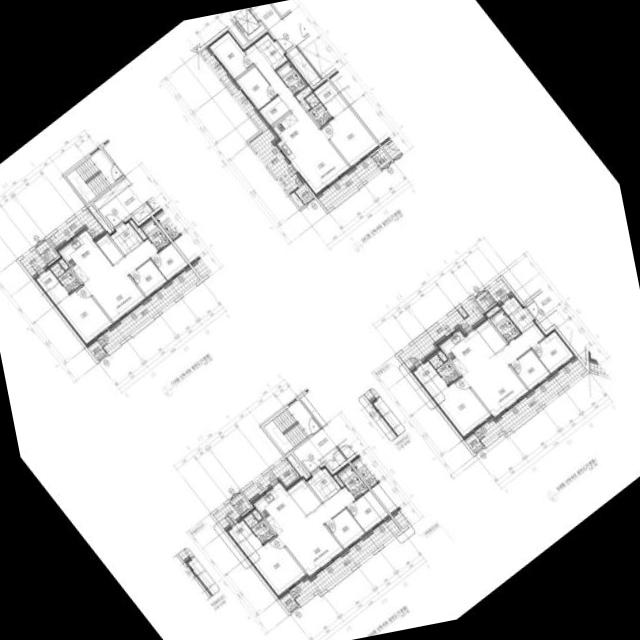background: (0, 0, 640, 640)
space_balconi: (201, 48, 303, 193), (474, 359, 587, 445), (289, 519, 401, 604), (97, 268, 200, 352), (399, 298, 485, 369), (318, 156, 380, 210), (243, 458, 300, 500), (47, 208, 105, 248), (20, 249, 47, 276), (214, 502, 241, 528), (488, 278, 512, 302)
space_bedroom: (247, 536, 307, 598), (55, 285, 114, 346), (432, 377, 491, 437), (322, 107, 380, 168), (252, 4, 310, 52), (207, 30, 253, 80), (235, 66, 278, 110), (347, 490, 390, 534), (532, 330, 575, 373), (326, 508, 367, 550), (511, 349, 551, 389), (151, 243, 190, 282), (130, 259, 169, 298)
space_dressroom: (226, 518, 263, 558), (313, 79, 349, 118), (412, 361, 448, 398), (34, 267, 69, 305)
space_elevator_hall: (293, 427, 338, 473), (99, 184, 146, 228), (526, 291, 557, 323)
space_front: (306, 466, 342, 503), (110, 220, 144, 256), (261, 39, 289, 70), (509, 306, 535, 333)
space_kitchen: (57, 229, 113, 287), (252, 481, 305, 536), (439, 329, 496, 379), (271, 112, 316, 163)
space_living_room: (244, 43, 352, 197), (465, 323, 546, 417), (278, 486, 355, 578), (86, 238, 158, 324)
space_other: (297, 35, 336, 78), (286, 477, 321, 515), (288, 46, 321, 85), (93, 177, 132, 210), (475, 318, 507, 353), (94, 232, 125, 265), (258, 96, 290, 126), (88, 205, 113, 234), (320, 447, 346, 470), (287, 454, 309, 479), (36, 240, 58, 263), (231, 493, 252, 514), (253, 31, 275, 51), (296, 85, 313, 110), (501, 295, 522, 315), (132, 202, 153, 222), (372, 149, 391, 168), (476, 291, 495, 310), (130, 219, 147, 240), (291, 192, 304, 207), (486, 305, 501, 317), (252, 509, 263, 521), (334, 474, 344, 487), (438, 350, 448, 361), (59, 259, 69, 270), (458, 307, 468, 317)
space_outdoor_room: (465, 433, 484, 452), (88, 341, 107, 360), (296, 184, 314, 204), (280, 592, 298, 612)
space_staircase: (66, 148, 123, 203), (264, 399, 320, 454)
space_toilet: (276, 61, 307, 95), (490, 309, 521, 342), (338, 465, 369, 498), (244, 513, 275, 544), (50, 262, 81, 293), (141, 219, 171, 250), (429, 354, 460, 384), (305, 92, 332, 126)
